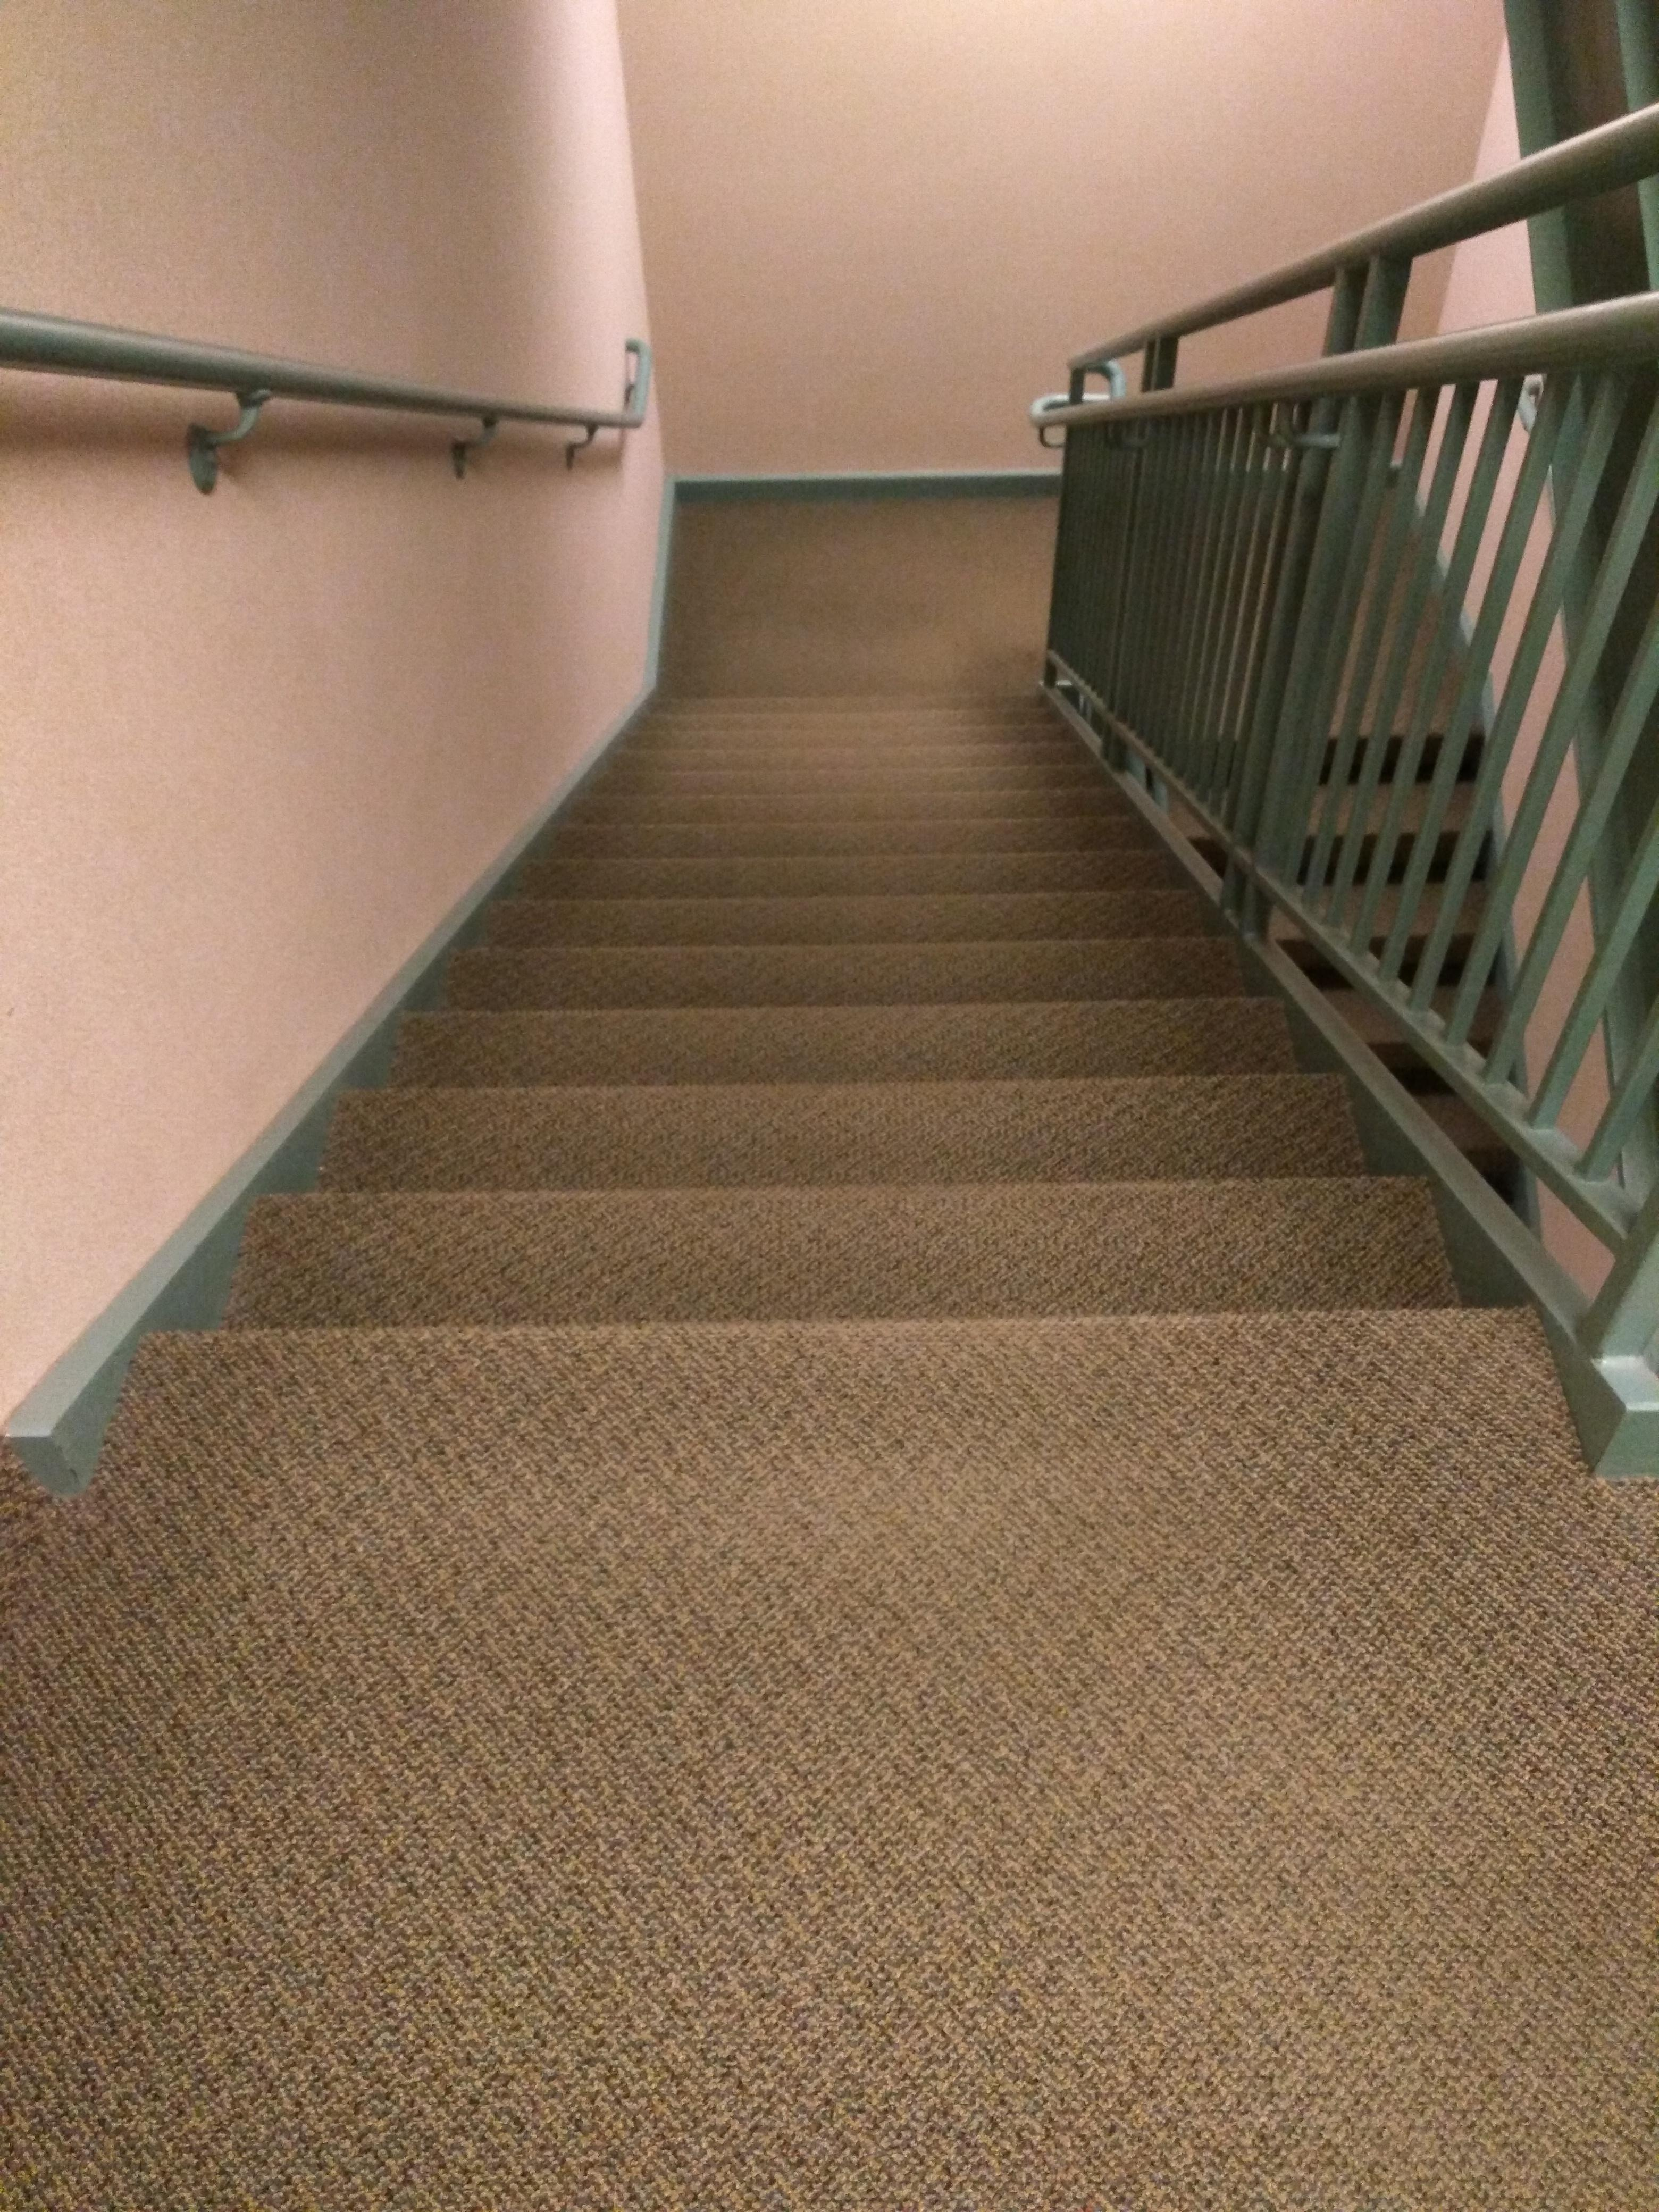stairs_down: (118, 655, 1586, 1470)
